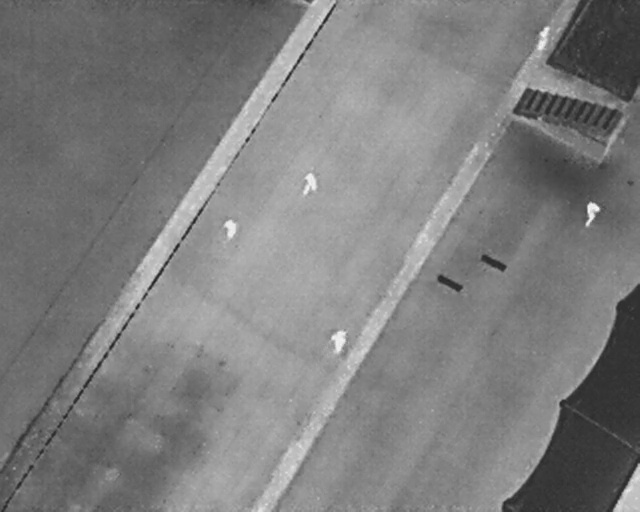Person: (327, 327, 349, 357), (585, 200, 600, 228), (303, 172, 317, 197), (223, 219, 238, 241)
